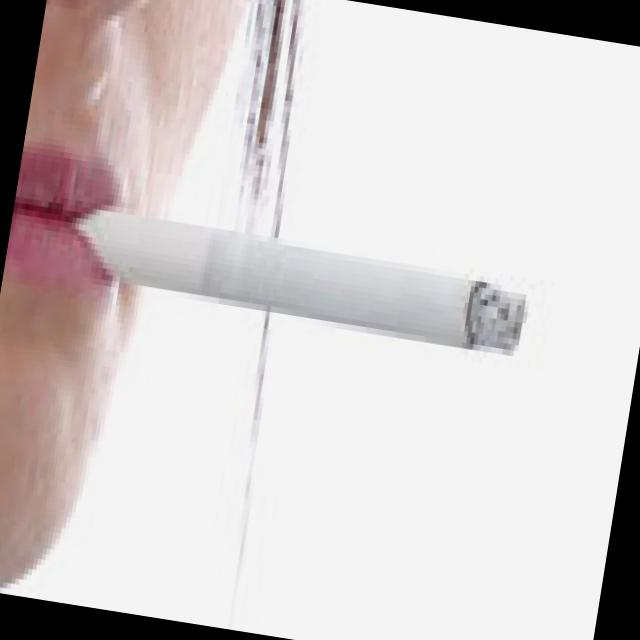smoke: (108, 204, 542, 359)
